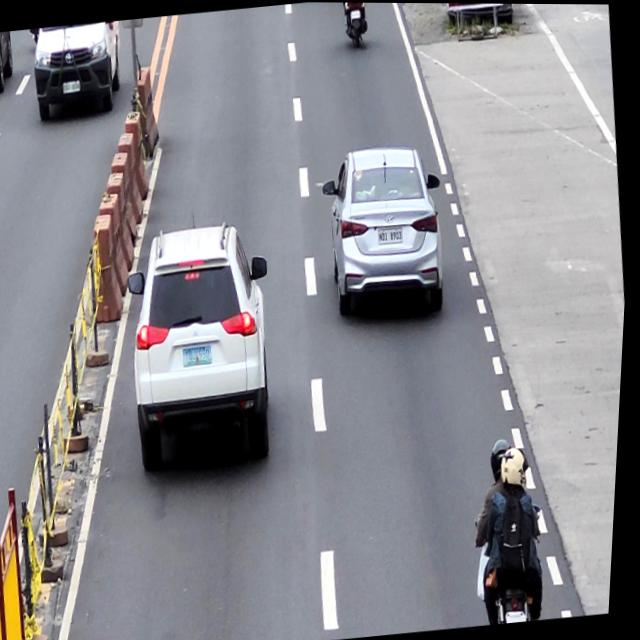Car: (117, 220, 293, 478), (315, 140, 456, 330)
License-Plate: (186, 344, 218, 365), (380, 226, 406, 243), (349, 8, 361, 19)
Motorcycle: (340, 2, 369, 45)
